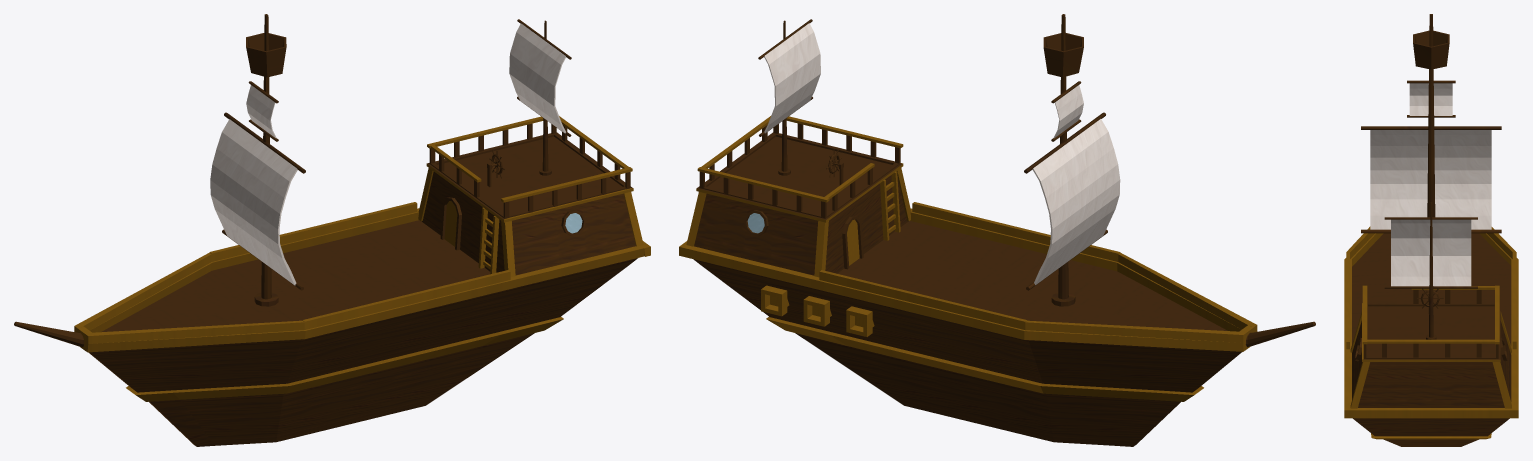
File: Ship.fbx
3 renders of one model, left to right at view 1: azimuth 30°, elevation 25°; view 2: azimuth 150°, elevation 25°; view 3: azimuth 270°, elevation 25°, orthographic. The views are drawn at different scales.
Visible parts, largest first — view 1: Ship; view 2: Ship; view 3: Ship.
Part boxes in pixels (x1=…): Ship: x1=14, y1=14, x2=650, y2=446; Ship: x1=679, y1=14, x2=1315, y2=446; Ship: x1=1344, y1=14, x2=1518, y2=446.
Size of the model in its own units: 149 by 100 by 42.7.
1 material, 1 textured.
